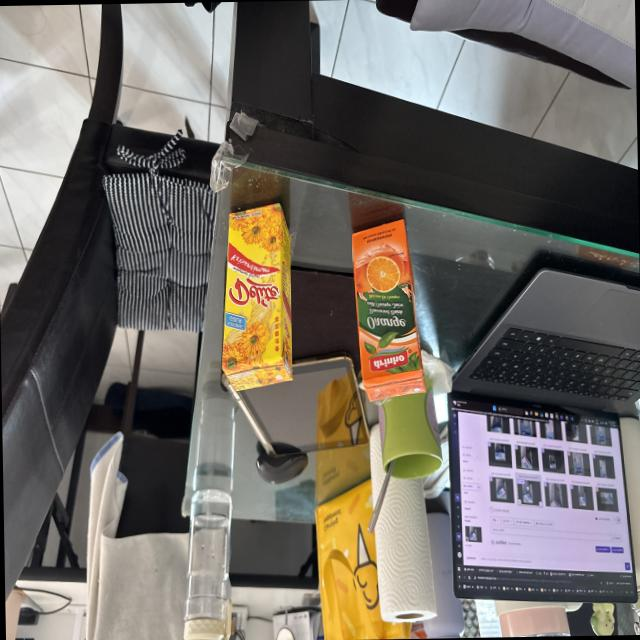drink_carton: (216, 193, 300, 394), (346, 209, 428, 410)
